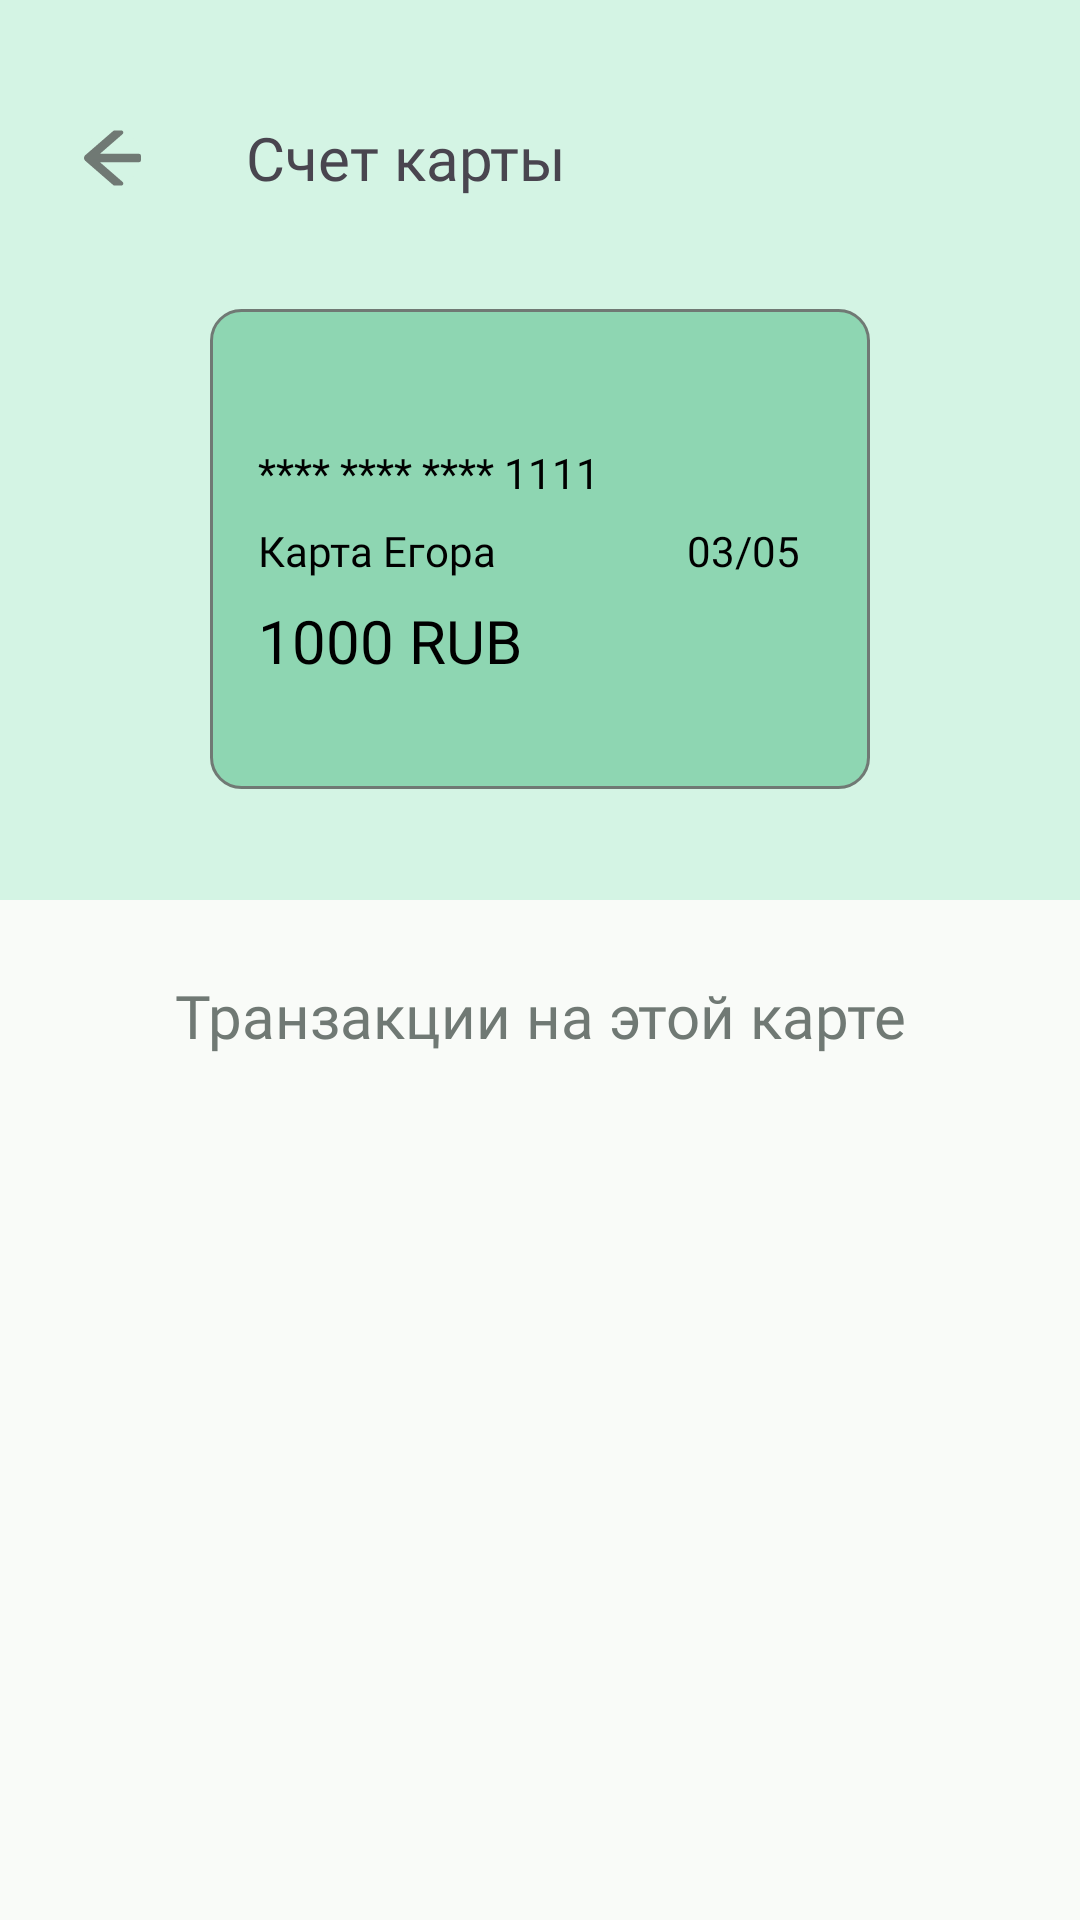

Icon bounding boxes for this 1080*1920 phone screenshot, format (x1=x1, y1=y1, x2=x2, y2=y2):
arrow left: (x1=84, y1=130, x2=141, y2=186)
